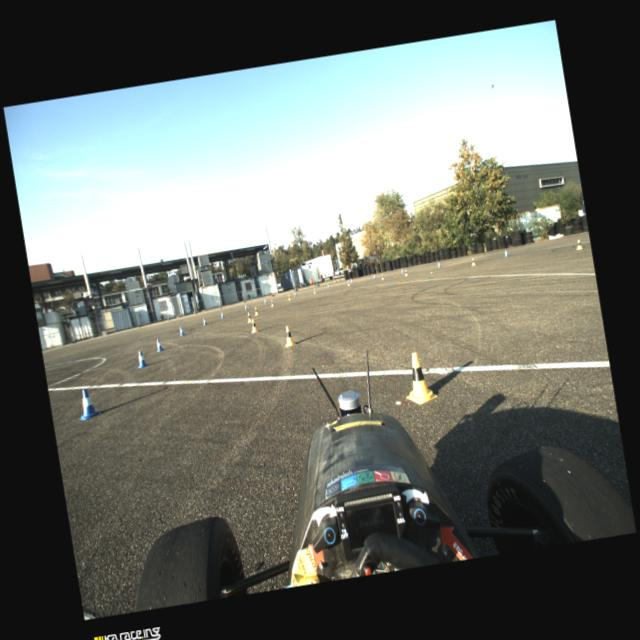blue_cone: (76, 387, 102, 420), (135, 350, 149, 369), (156, 338, 164, 352), (178, 326, 186, 336), (202, 317, 208, 326), (504, 248, 508, 258), (220, 312, 224, 318), (244, 304, 248, 310), (264, 299, 268, 305), (400, 268, 404, 274), (437, 262, 441, 268), (351, 278, 354, 284), (373, 274, 376, 280), (327, 283, 330, 288), (293, 292, 296, 296)
yellow_cone: (399, 351, 438, 406), (282, 324, 296, 348), (250, 318, 258, 333), (574, 238, 584, 250), (245, 312, 252, 323), (253, 307, 259, 316), (286, 294, 292, 301), (270, 300, 275, 308), (403, 269, 408, 277), (471, 258, 476, 266), (346, 280, 351, 286), (313, 288, 317, 294), (380, 274, 384, 280)
